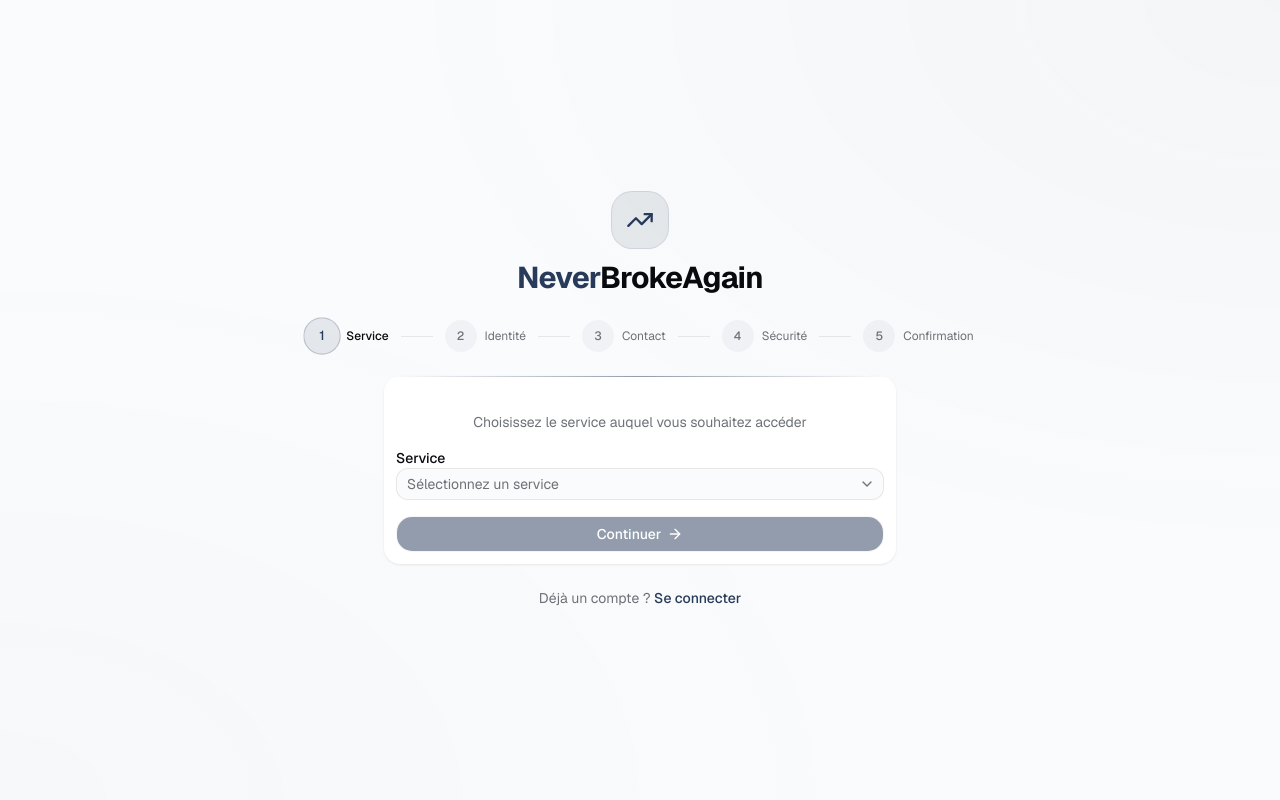
Test case: Register Wizard › loads plans and shows options on combobox click
The image size is (1280, 800).
Click the dropdown at (483, 484), box top-left (396, 468), bottom-right (884, 500)
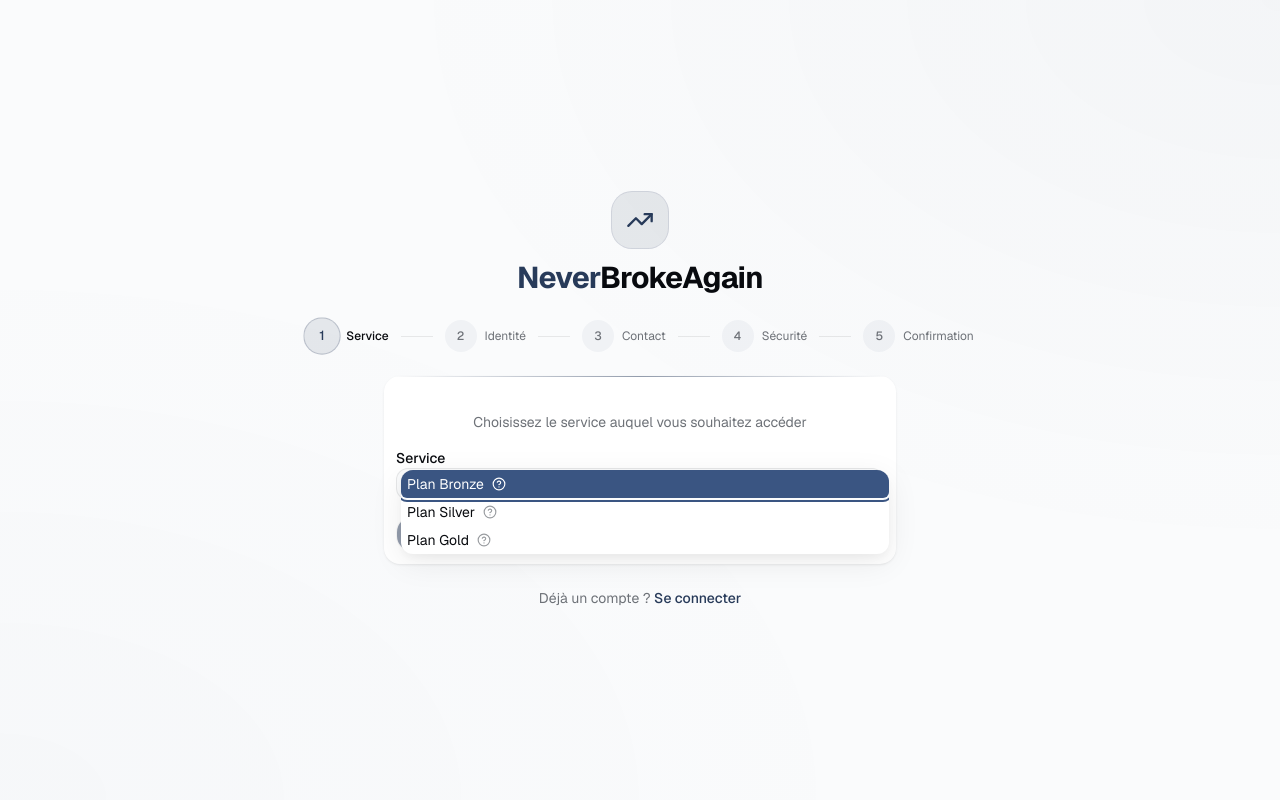
Now the option "Plan Bronze" is shown, box top-left (401, 470), bottom-right (889, 498)
Now the option "Plan Silver" is shown, box top-left (407, 503), bottom-right (497, 521)
Now the option "Plan Gold" is shown, box top-left (407, 531), bottom-right (491, 549)
